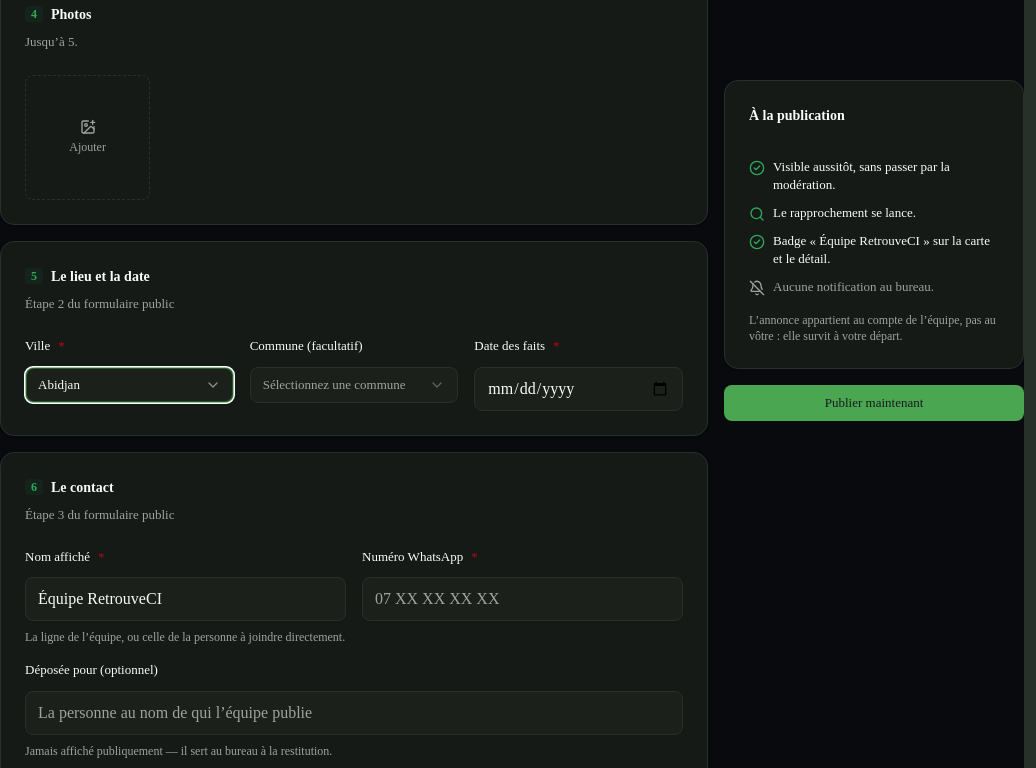
Test case: the team publication form › clears the commune when the city changes
This screenshot has width=1036, height=768.
Earlier steps of the test are not shown.
(page scrolled)
Click the dropdown labelled "Sélectionnez une commune" at (354, 385), box [250, 367, 458, 403]
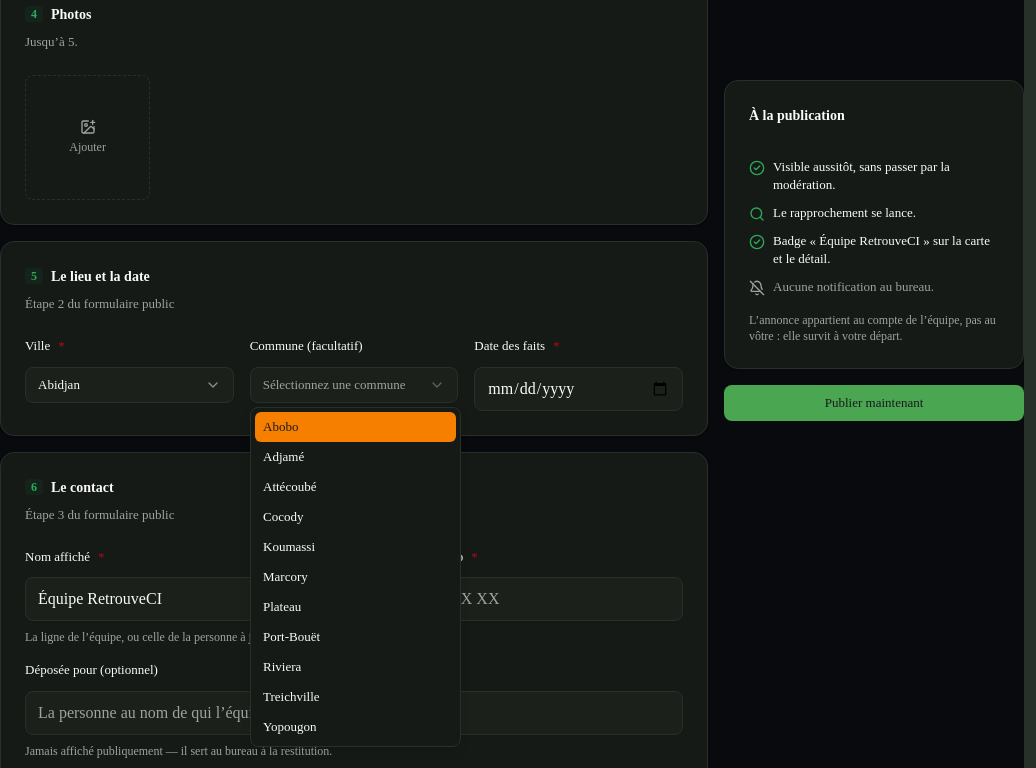
Click the option "Cocody" at (283, 516), box [263, 509, 304, 524]
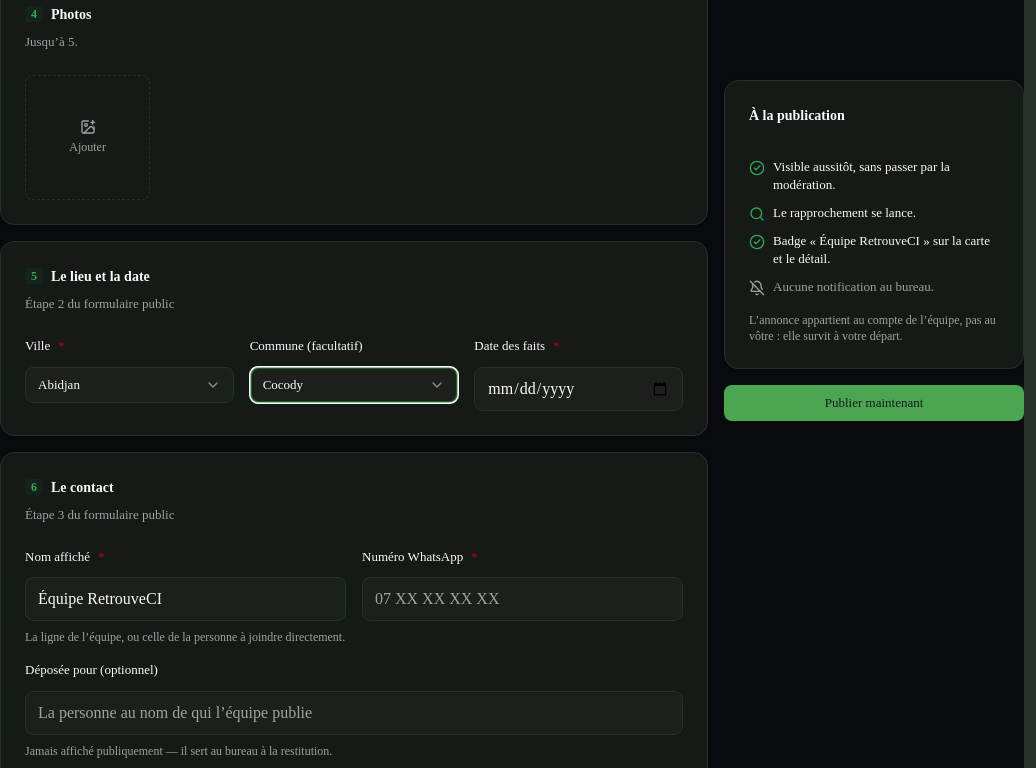
Click the dropdown named "Ville" at (129, 385), box [25, 367, 234, 403]
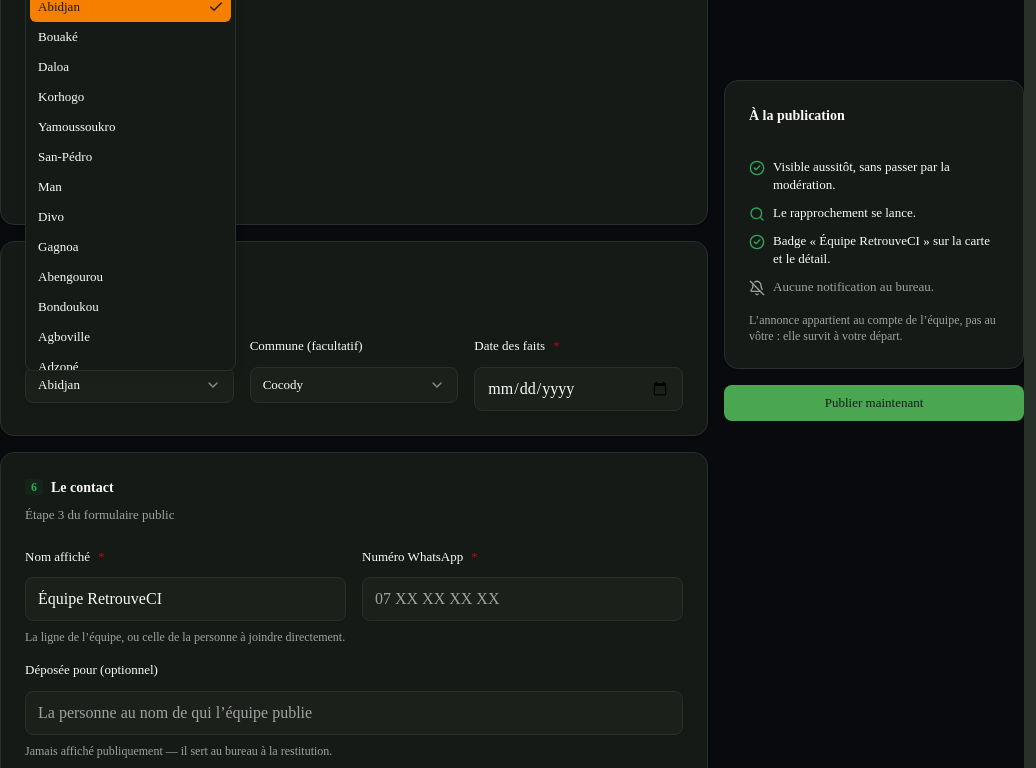
Click the option "Bouaké" at (58, 36), box [38, 29, 78, 44]
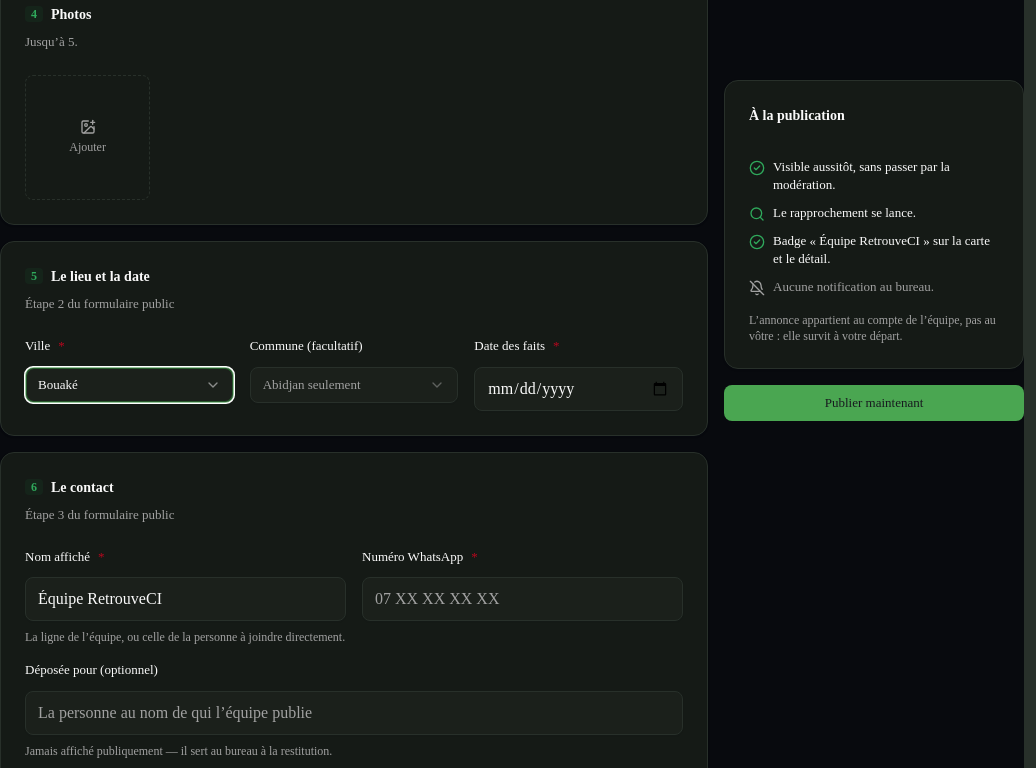
Expected: the dropdown named "Commune" reads "Abidjan seulement", [250, 367, 458, 403]
